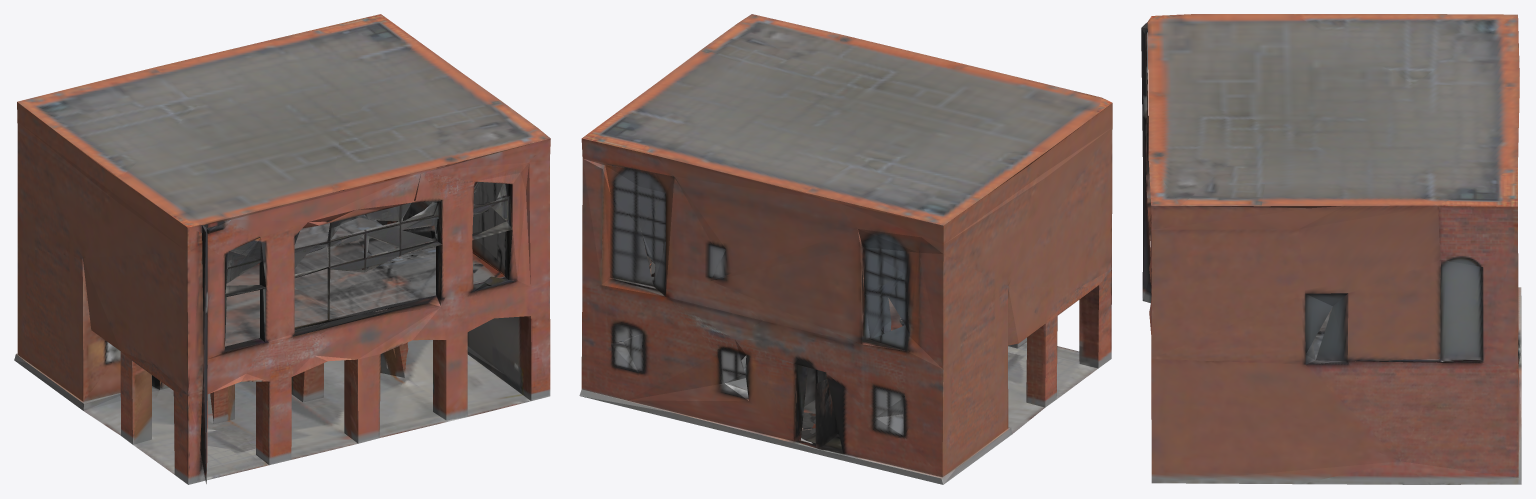
File: a_small_300sqft_indus_0403213823_texture.fbx
3 views of the same model, side by side, from view 1: azimuth 30°, elevation 25°; view 2: azimuth 150°, elevation 25°; view 3: azimuth 270°, elevation 25° (orthographic). The views are drawn at different scales.
Parts seen in each view (by area): view 1: temp; view 2: temp; view 3: temp.
Boxes of the visible parts, left/top/right/bottom form: temp: left=14, top=14, right=550, bottom=484; temp: left=579, top=14, right=1112, bottom=484; temp: left=1141, top=14, right=1521, bottom=484.
Bounding box in the file's own units: 200 × 136 × 167.
Materials: 1 (1 with a texture image).
